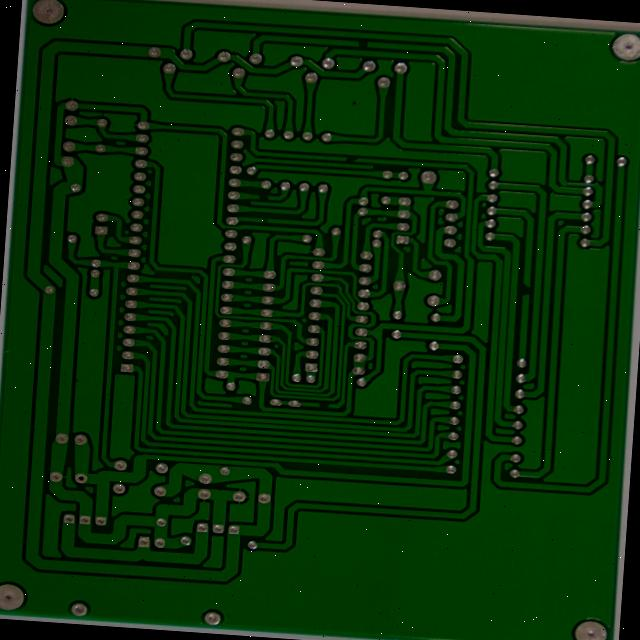open_circuit: (318, 37, 344, 49), (506, 296, 520, 316), (308, 161, 333, 171), (281, 423, 300, 433), (213, 201, 231, 211)
